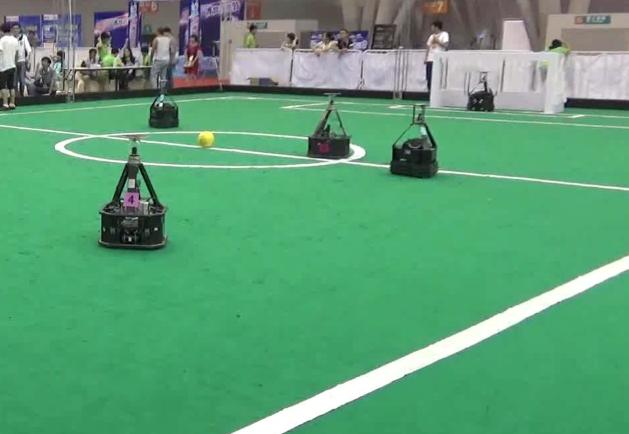robot: (94, 129, 172, 251), (386, 96, 442, 182), (303, 90, 353, 160), (143, 76, 183, 131)
